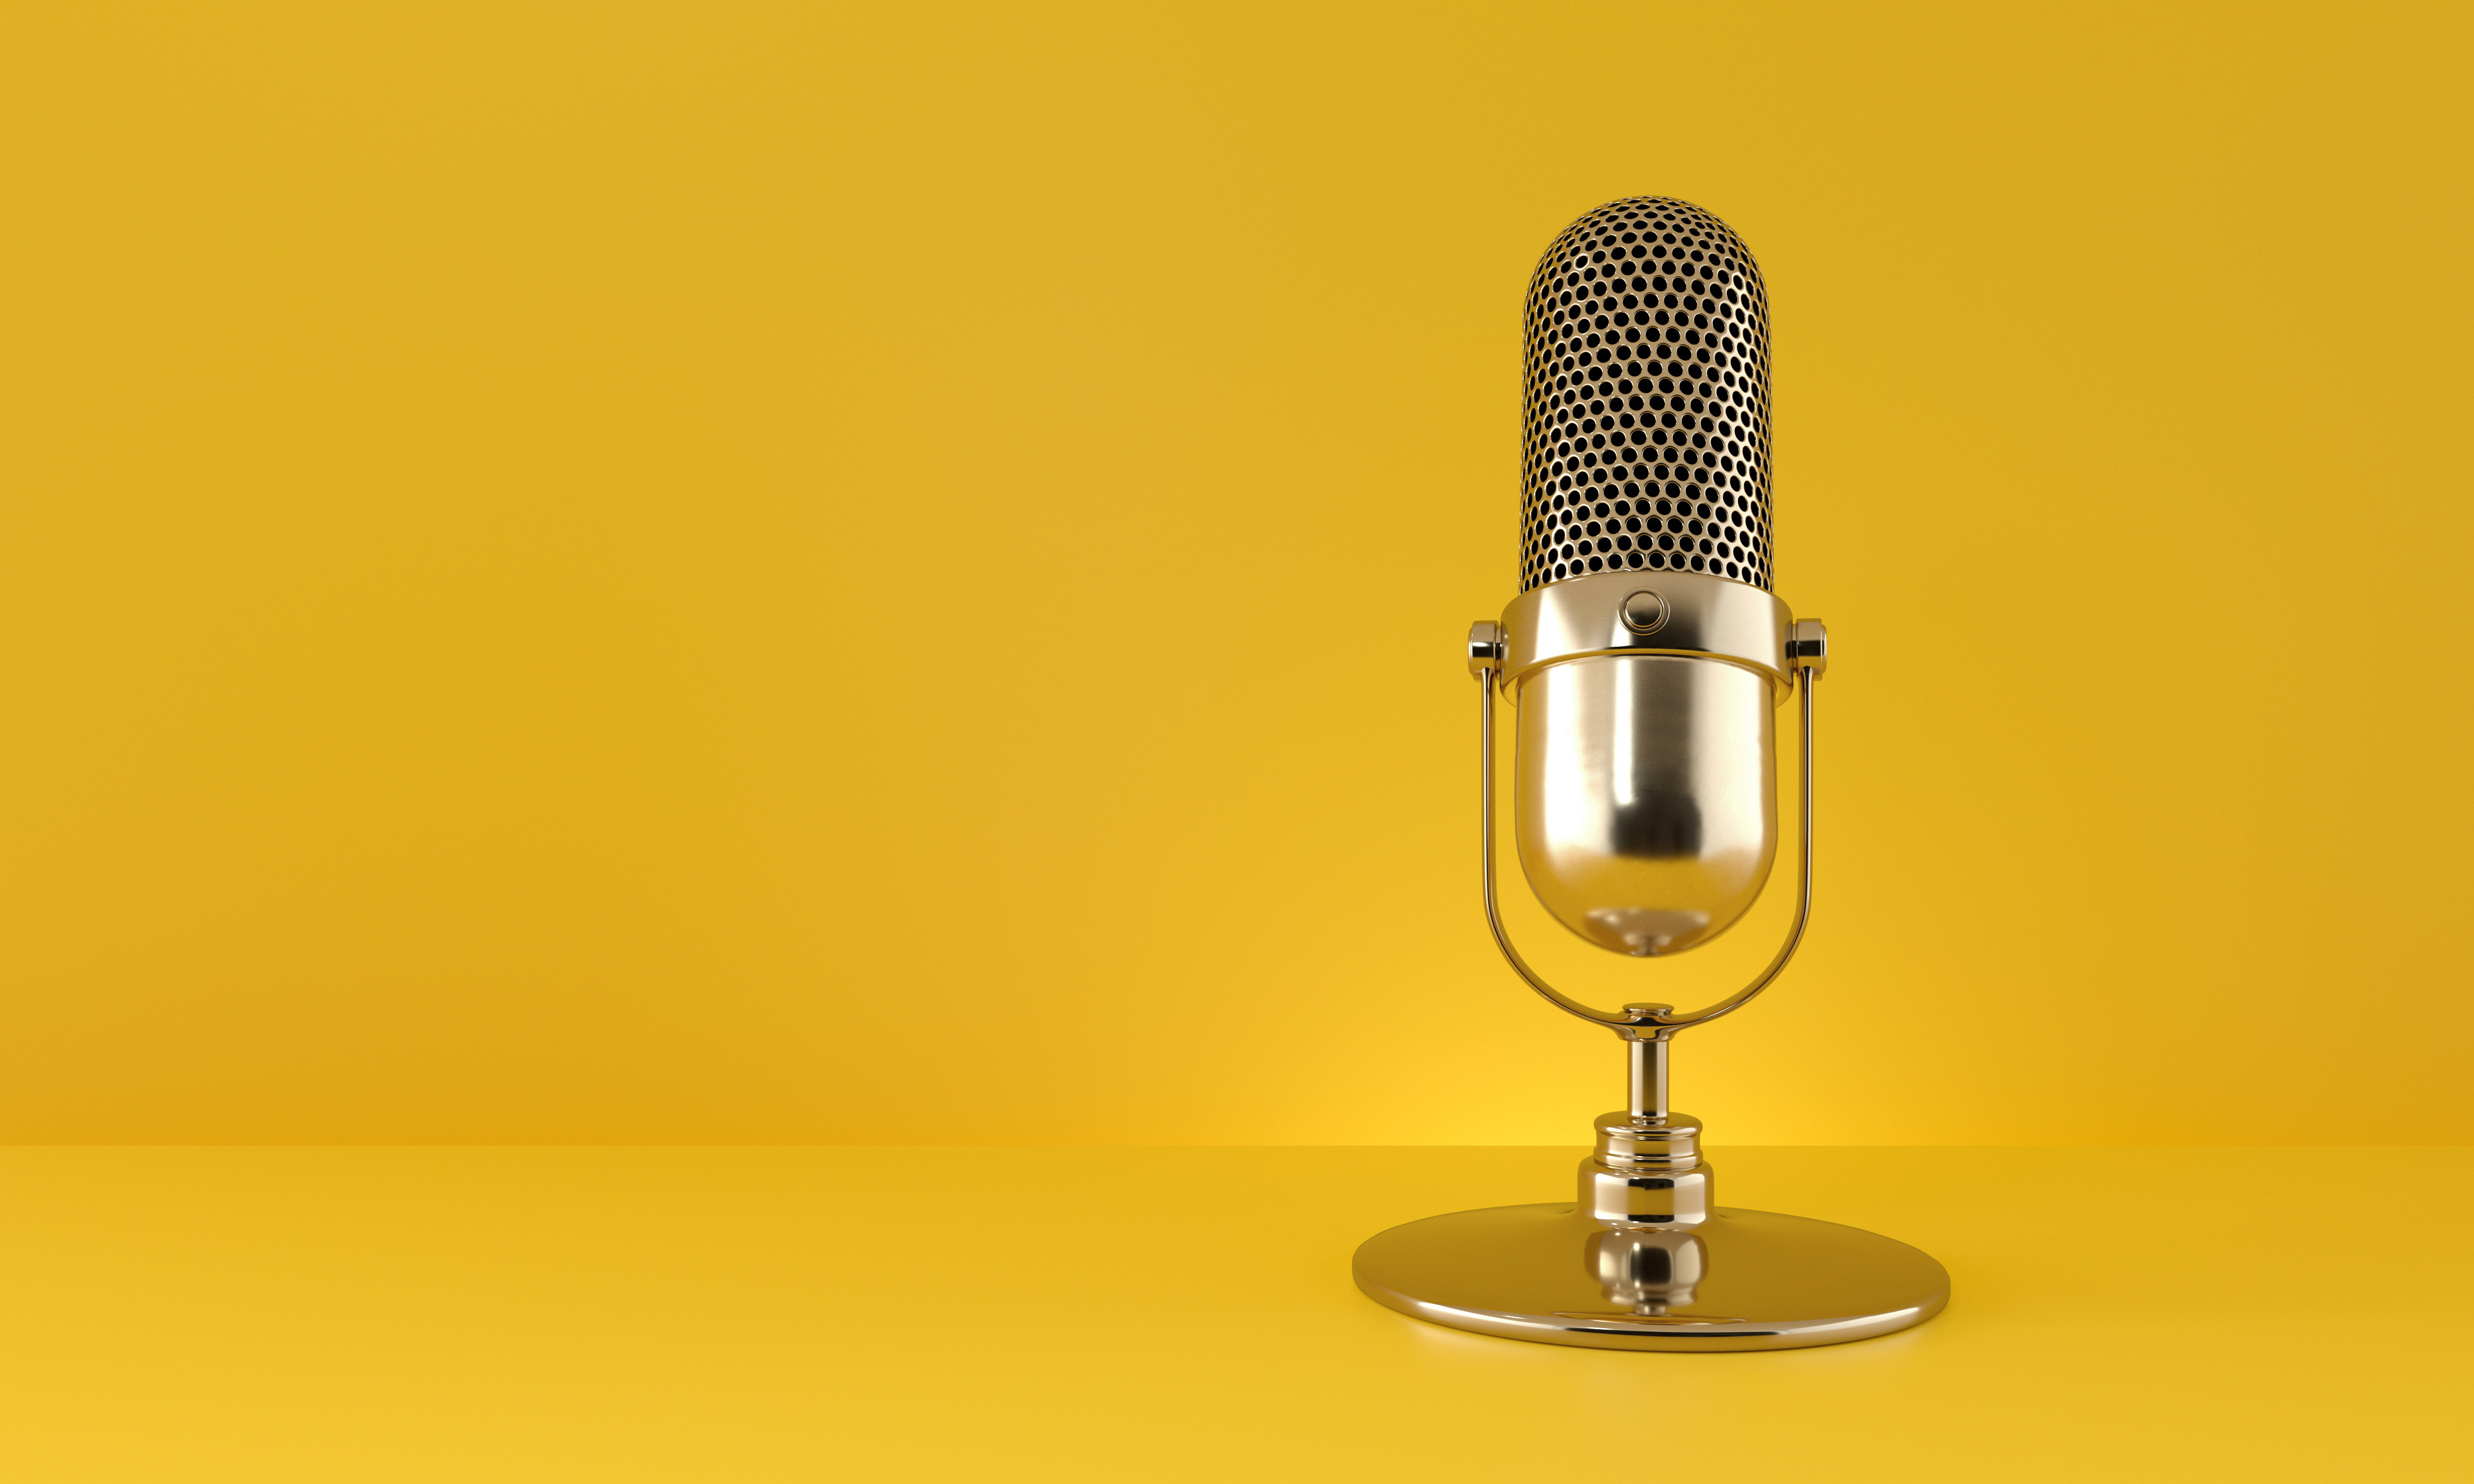microphone: (1322, 185, 1977, 1371)
